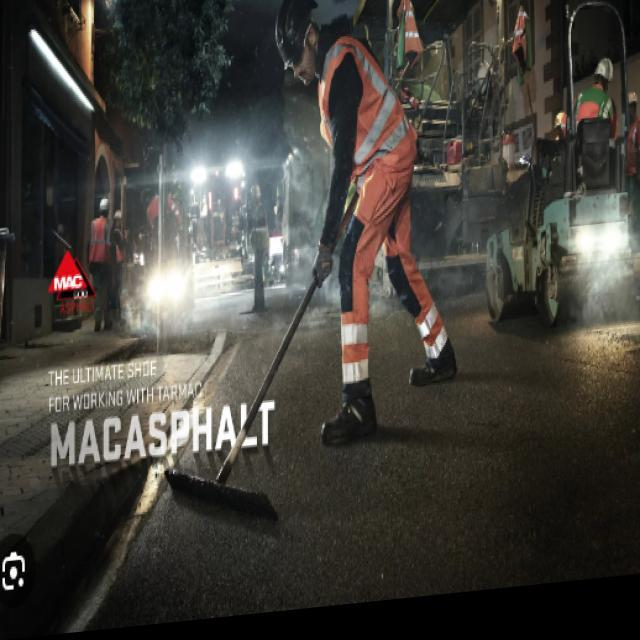hard_hat: (274, 0, 321, 81), (595, 51, 615, 93), (554, 108, 572, 137), (626, 86, 640, 118), (250, 179, 265, 204), (98, 193, 110, 220), (113, 204, 125, 229)
shoes: (320, 334, 461, 448)
vest: (312, 26, 421, 195), (88, 212, 114, 271), (250, 201, 272, 258), (113, 226, 129, 270)
